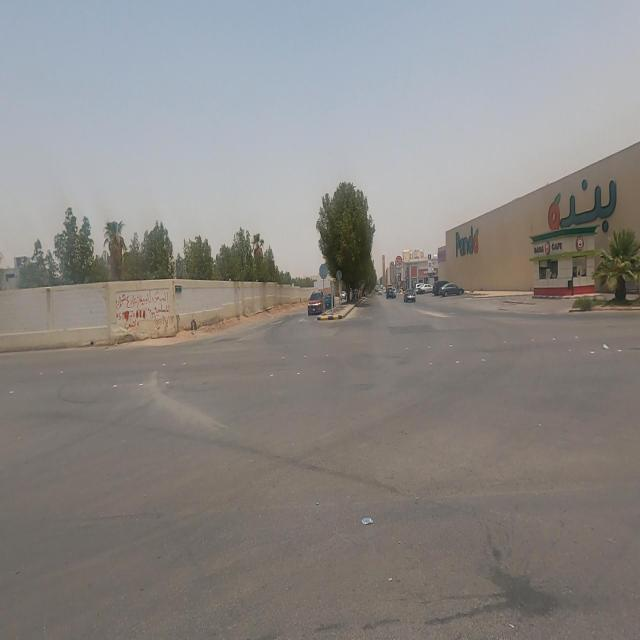Graffiti: (117, 292, 175, 328)
